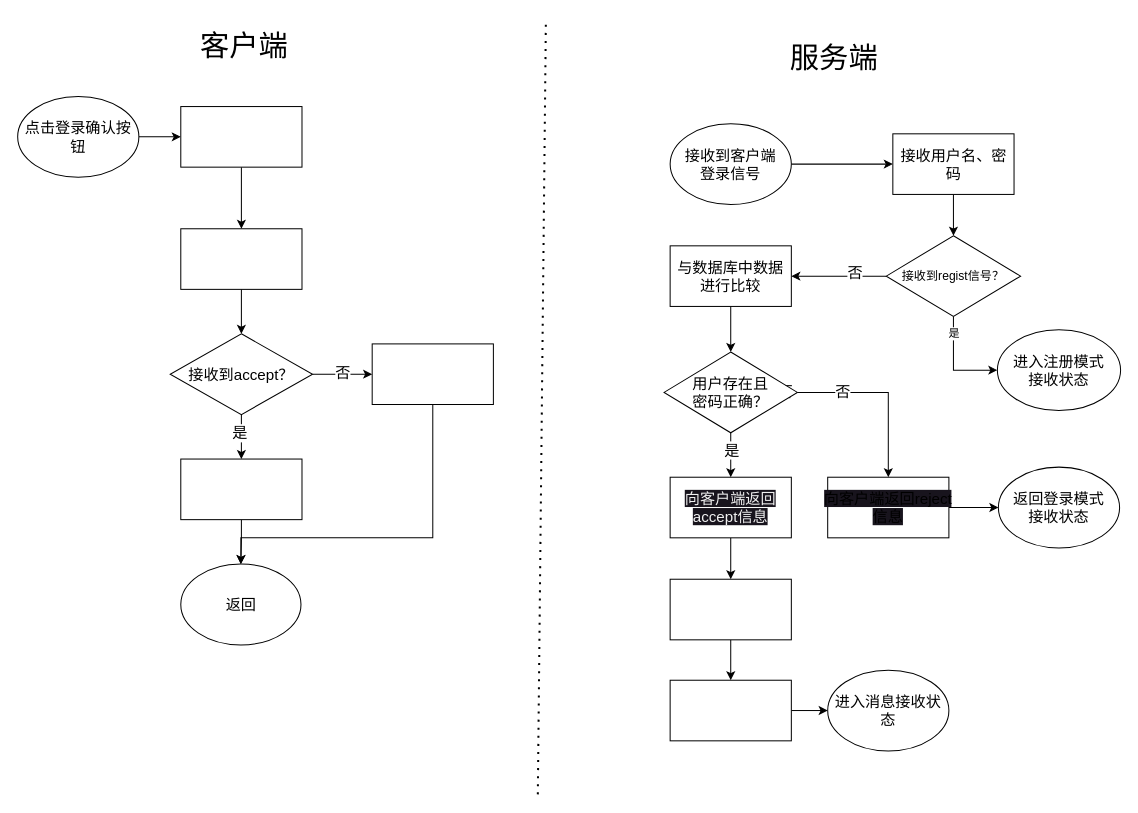
Image size: 1138x813. Some labels were removed from this diagram. Here are the shapes that lost their labels. From the top down, the box of each, then its label:
(180, 106, 302, 167): 向服务器发送用户名密码
(180, 228, 302, 289): 接收服务器返回的信息
(371, 343, 493, 405): 提示登录失败
(180, 458, 302, 520): 切换聊天界面
(669, 578, 791, 640): 将用户信息推入 vector
(669, 679, 791, 741): 向vector中所有 在线用户推送 当前在线人数与 用户名
